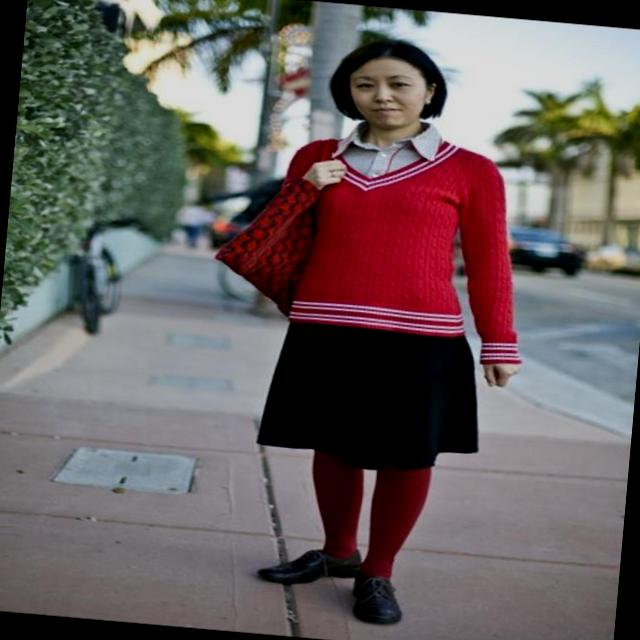skirt: (253, 302, 490, 478)
sweater: (270, 122, 544, 368)
